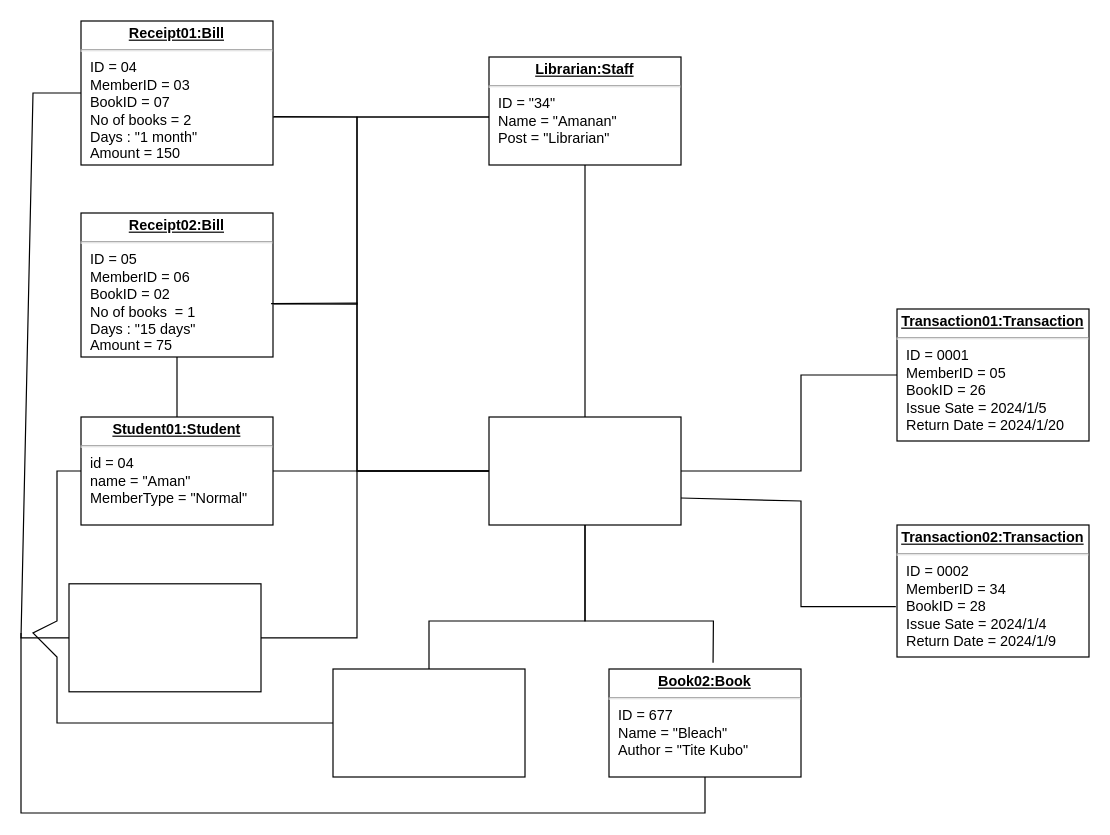
Some shapes in this 1110 by 835 pixel diagram are drawn without their labels. The centre of each missing label's shape, as x and y in pixels:
Admin:Library Id = 001 username = "admin" password = ""4GGG44": pixel 584 470
Book01:Book ID = 555 Name = "onepiece" Author = "Ichira Oda": pixel 428 722
Student02:Student Id = 05 Name = "Amana" MemberType = "Normal": pixel 164 637
